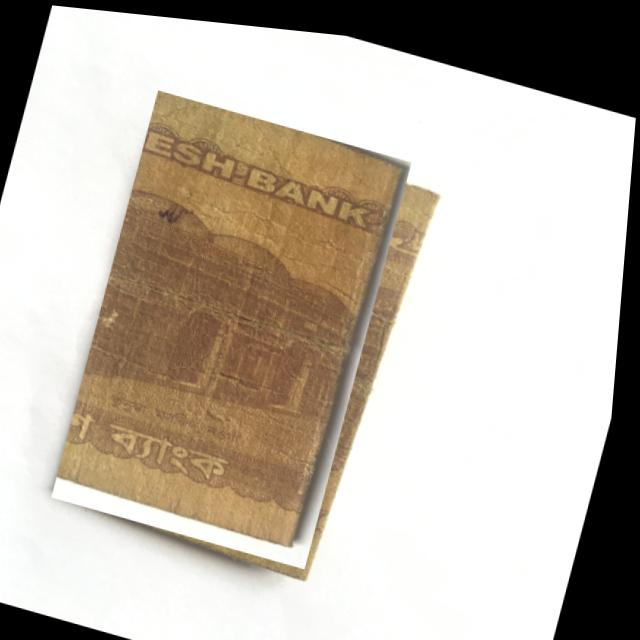Taka: (56, 80, 416, 567)
